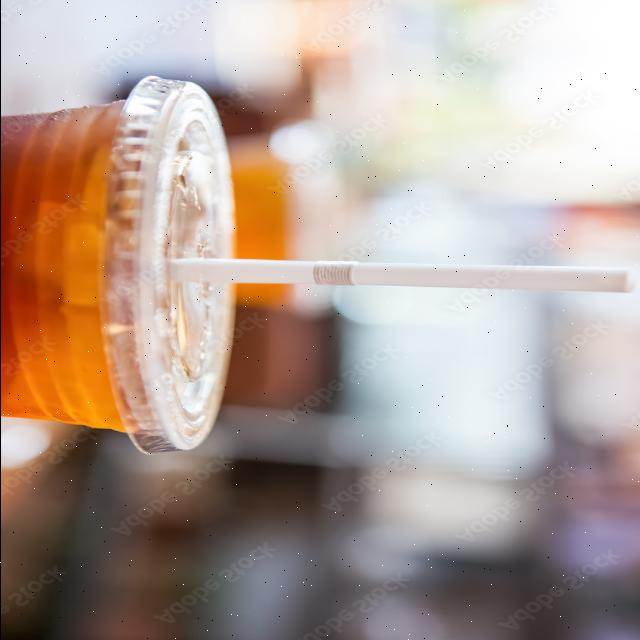plastic: (239, 246, 640, 298)
